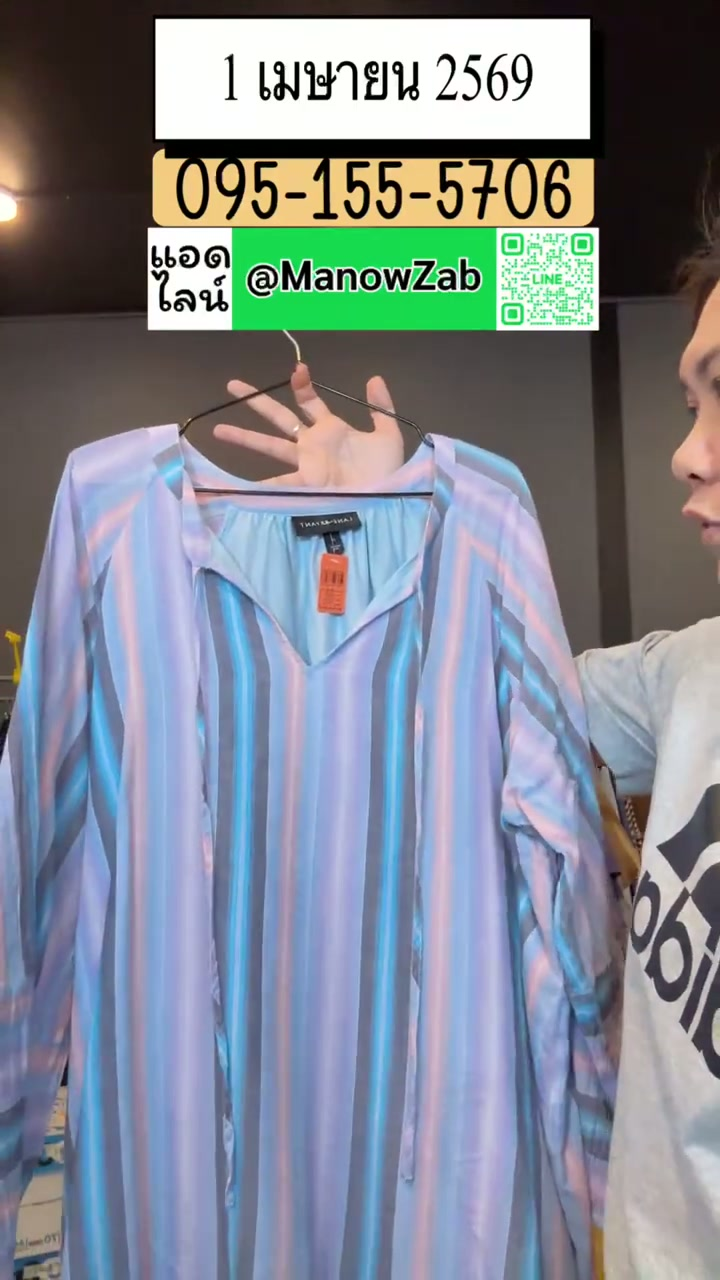display_shirt: (0, 424, 621, 1279)
